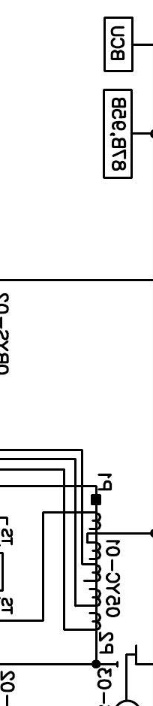BCU: (103, 16, 134, 73)
